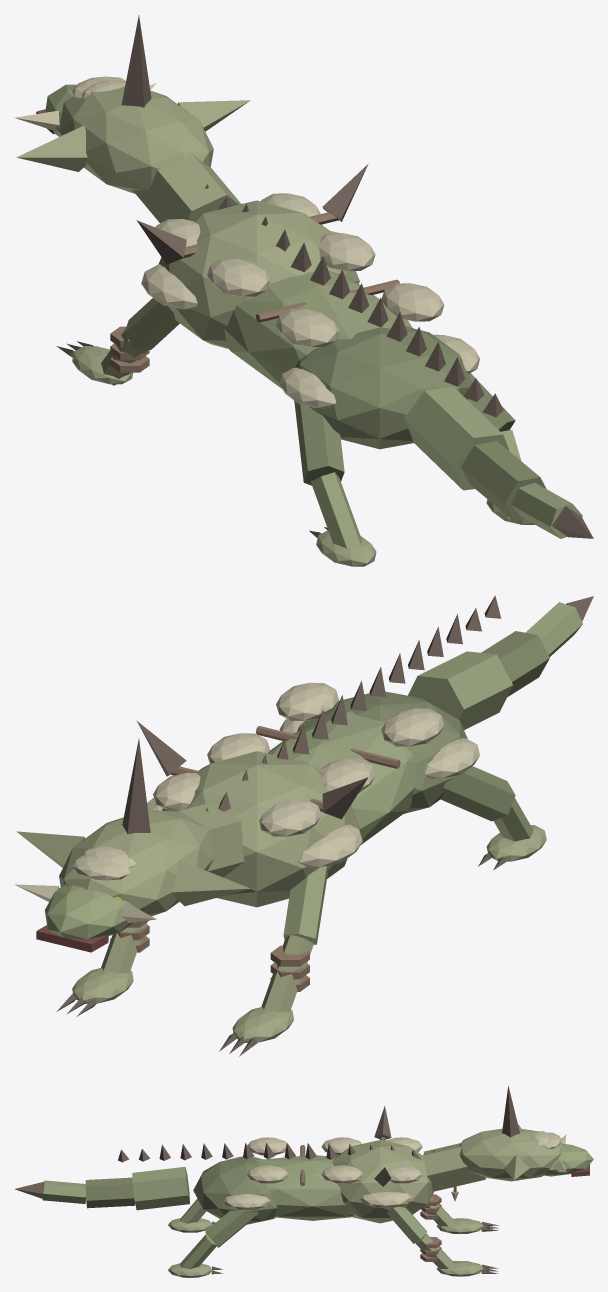
File: quadruped_tier_4_apex_beast.glb
3 renders of one model, top to bottom at view 1: azimuth 30°, elevation 25°; view 2: azimuth 150°, elevation 25°; view 3: azimuth 270°, elevation 25°, orthographic. The views are drawn at different scales.
Parts seen in each view (by area): view 1: hip_mass, chest_mass, head, body_main, tail_segment_0, neck, tail_segment_1, hind_upper_leg_L, hind_lower_leg_L, tail_segment_2, side_bone_plate_L_1, side_bone_plate_L_2 (+17 smaller); view 2: chest_mass, head, body_main, tail_segment_0, hip_mass, snout, hind_upper_leg_L, neck, tail_segment_1, front_upper_leg_L, side_ear_fin_L, side_bone_plate_L_2 (+22 smaller); view 3: chest_mass, body_main, head, hip_mass, tail_segment_0, neck, tail_segment_1, hind_upper_leg_R, tail_segment_2, snout, front_upper_leg_R, front_shoulder_bone_plate_R (+19 smaller).
Part boxes in pixels (x1=…): hip_mass: x1=294, y1=326, x2=472, y2=449; chest_mass: x1=159, y1=200, x2=359, y2=348; head: x1=59, y1=86, x2=213, y2=193; body_main: x1=224, y1=270, x2=412, y2=388; tail_segment_0: x1=404, y1=387, x2=509, y2=490; neck: x1=132, y1=152, x2=240, y2=223; tail_segment_1: x1=461, y1=441, x2=546, y2=521; hind_upper_leg_L: x1=294, y1=401, x2=344, y2=485; hind_lower_leg_L: x1=310, y1=472, x2=361, y2=548; tail_segment_2: x1=511, y1=482, x2=582, y2=538; side_bone_plate_L_1: x1=207, y1=258, x2=270, y2=296; side_bone_plate_L_2: x1=276, y1=309, x2=339, y2=347; chest_mass: x1=162, y1=751, x2=359, y2=907; head: x1=59, y1=810, x2=213, y2=916; body_main: x1=268, y1=711, x2=416, y2=845; tail_segment_0: x1=408, y1=651, x2=512, y2=729; hip_mass: x1=297, y1=691, x2=467, y2=813; snout: x1=44, y1=885, x2=141, y2=939; hind_upper_leg_L: x1=440, y1=766, x2=515, y2=821; neck: x1=177, y1=803, x2=244, y2=877; tail_segment_1: x1=481, y1=631, x2=549, y2=696; front_upper_leg_L: x1=283, y1=866, x2=327, y2=944; side_ear_fin_L: x1=171, y1=860, x2=250, y2=906; side_bone_plate_L_2: x1=381, y1=708, x2=444, y2=746; chest_mass: x1=332, y1=1140, x2=433, y2=1223; body_main: x1=255, y1=1155, x2=353, y2=1220; head: x1=459, y1=1128, x2=564, y2=1181; hip_mass: x1=193, y1=1157, x2=277, y2=1224; tail_segment_0: x1=132, y1=1166, x2=189, y2=1210; neck: x1=423, y1=1143, x2=485, y2=1191; tail_segment_1: x1=85, y1=1177, x2=134, y2=1208; hind_upper_leg_R: x1=205, y1=1210, x2=258, y2=1247; tail_segment_2: x1=42, y1=1180, x2=86, y2=1203; snout: x1=542, y1=1143, x2=593, y2=1176; front_upper_leg_R: x1=387, y1=1207, x2=426, y2=1243; front_shoulder_bone_plate_R: x1=360, y1=1192, x2=411, y2=1208.
Bounding box in the file's own units: 1.31 × 1.65 × 5.17.
